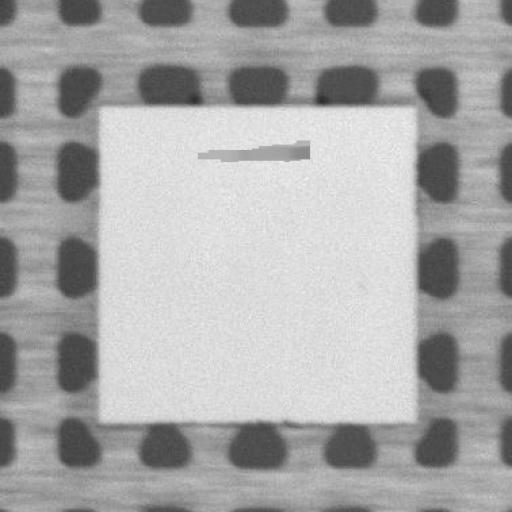DIE_INK: (191, 135, 316, 169)
